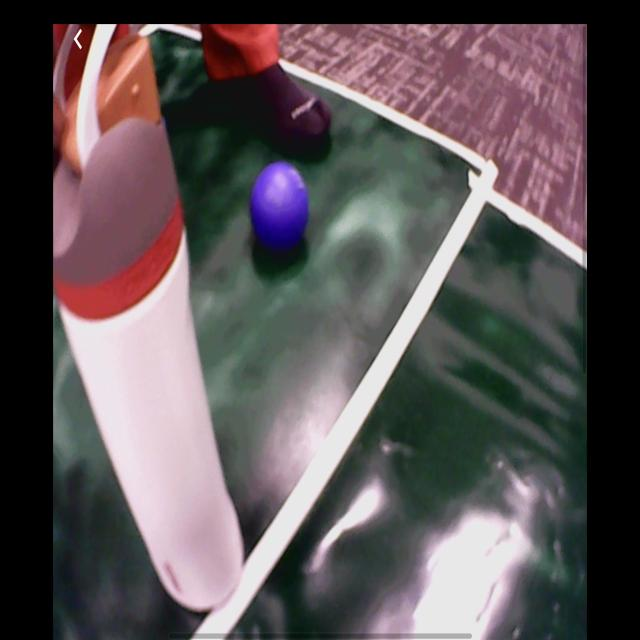ball: (251, 163, 311, 252)
